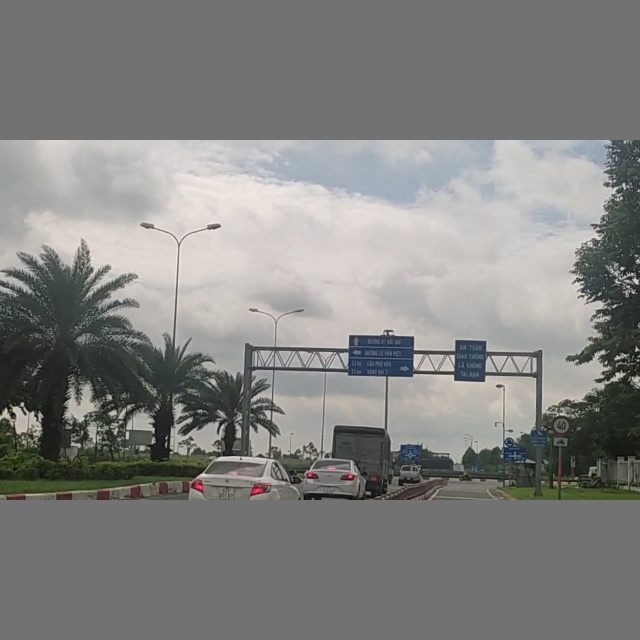P.127*40: (551, 416, 571, 435)
S.505a*Xe may: (552, 435, 570, 448)
